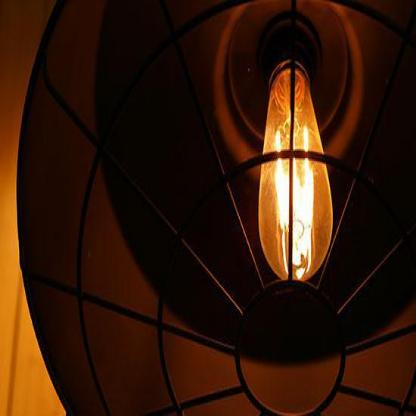other: (259, 76, 333, 272)
